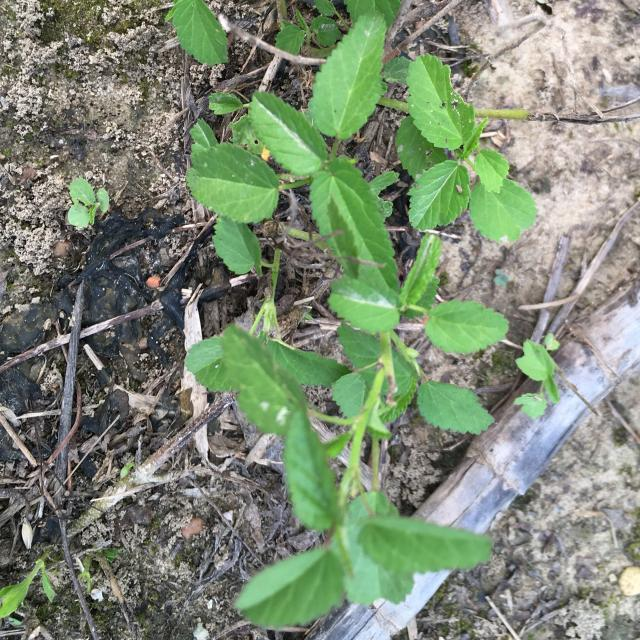PricklySida: (164, 1, 562, 629), (68, 176, 110, 228)
